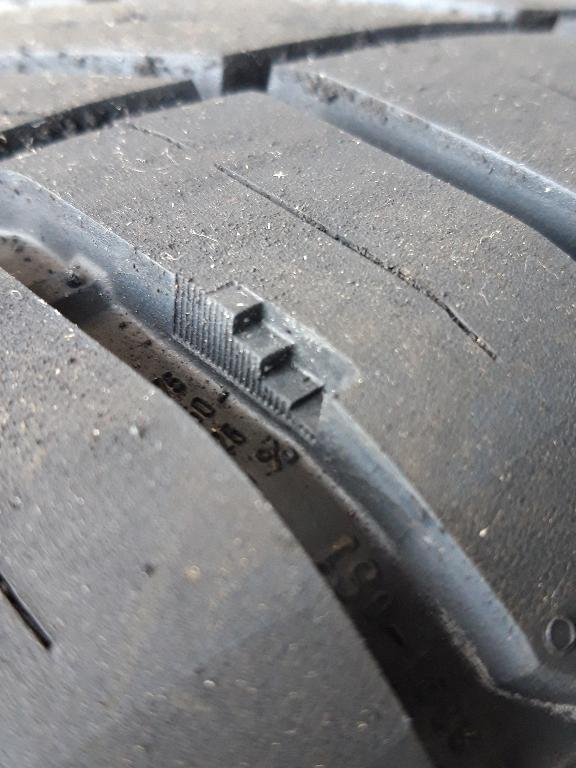temoin:75: (198, 276, 372, 456)
